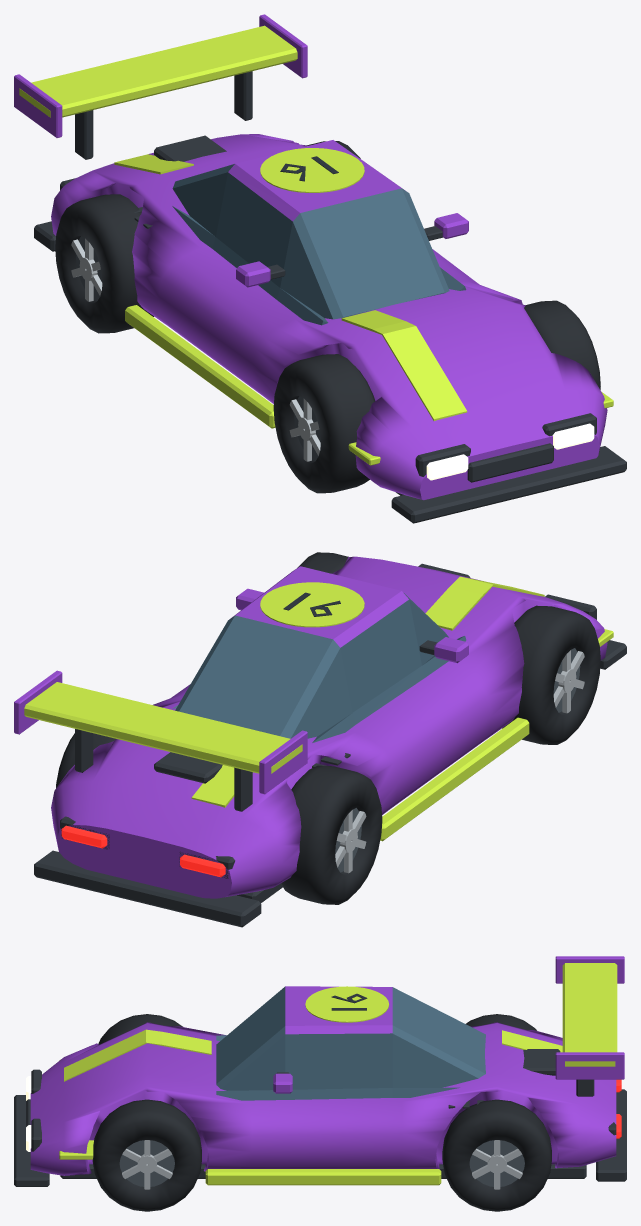
File: r2-car-gt.glb
The picture shows the model from 3 angles, top to bottom: view 1: azimuth 30°, elevation 25°; view 2: azimuth 150°, elevation 25°; view 3: azimuth 270°, elevation 25°; orthographic projection. The views are drawn at different scales.
Parts seen in each view (by area): view 1: r2-car-gt-moulded-body, r2-car-gt-greenhouse, wheel-front-left, r2-car-gt-rear-wing, wheel-rear-left, r2-car-gt-front-splitter, r2-car-gt-hood-stripe-0, r2-car-gt-side-sill--1, r2-car-gt-roof-number-roundel, wheel-front-right, r2-car-gt-front-intake, r2-car-gt-wing-endplate--1 (+9 smaller); view 2: r2-car-gt-moulded-body, r2-car-gt-greenhouse, r2-car-gt-rear-wing, wheel-rear-left, wheel-front-left, r2-car-gt-rear-diffuser, r2-car-gt-side-sill--1, r2-car-gt-roof-number-roundel, r2-car-gt-hood-stripe-0, r2-car-gt-wing-endplate--1, r2-car-gt-engine-spine, r2-car-gt-deck-stripe-0 (+8 smaller); view 3: r2-car-gt-moulded-body, r2-car-gt-greenhouse, wheel-rear-right, wheel-front-right, r2-car-gt-rear-wing, r2-car-gt-side-sill-1, r2-car-gt-roof-number-roundel, r2-car-gt-hood-stripe-0, r2-car-gt-wing-endplate-1, r2-car-gt-front-splitter, r2-car-gt-rear-diffuser, wheel-front-left (+6 smaller).
Boxes of the visible parts, bbox=[...] form: r2-car-gt-moulded-body: bbox=[51, 134, 607, 500]; r2-car-gt-greenhouse: bbox=[172, 140, 466, 325]; wheel-front-left: bbox=[273, 354, 375, 493]; r2-car-gt-rear-wing: bbox=[19, 25, 297, 117]; wheel-rear-left: bbox=[55, 194, 153, 333]; r2-car-gt-front-splitter: bbox=[391, 446, 626, 523]; r2-car-gt-hood-stripe-0: bbox=[341, 310, 467, 420]; r2-car-gt-side-sill--1: bbox=[125, 305, 275, 428]; r2-car-gt-roof-number-roundel: bbox=[260, 148, 364, 192]; wheel-front-right: bbox=[524, 300, 600, 389]; r2-car-gt-front-intake: bbox=[467, 443, 553, 482]; r2-car-gt-wing-endplate--1: bbox=[14, 74, 62, 137]; r2-car-gt-moulded-body: bbox=[51, 556, 607, 898]; r2-car-gt-greenhouse: bbox=[172, 566, 466, 742]; r2-car-gt-rear-wing: bbox=[24, 682, 302, 773]; wheel-rear-left: bbox=[281, 765, 382, 904]; wheel-front-left: bbox=[502, 605, 600, 744]; r2-car-gt-rear-diffuser: bbox=[34, 850, 261, 927]; r2-car-gt-side-sill--1: bbox=[380, 717, 529, 841]; r2-car-gt-roof-number-roundel: bbox=[260, 582, 364, 627]; r2-car-gt-hood-stripe-0: bbox=[425, 576, 544, 630]; r2-car-gt-wing-endplate--1: bbox=[259, 730, 307, 794]; r2-car-gt-engine-spine: bbox=[154, 752, 222, 783]; r2-car-gt-deck-stripe-0: bbox=[191, 765, 252, 807]; r2-car-gt-moulded-body: bbox=[30, 1022, 616, 1175]; r2-car-gt-greenhouse: bbox=[216, 986, 485, 1100]; wheel-rear-right: bbox=[442, 1099, 551, 1211]; wheel-front-right: bbox=[92, 1099, 201, 1211]; r2-car-gt-rear-wing: bbox=[562, 963, 617, 1066]; r2-car-gt-side-sill-1: bbox=[205, 1169, 441, 1185]; r2-car-gt-roof-number-roundel: bbox=[305, 986, 389, 1022]; r2-car-gt-hood-stripe-0: bbox=[64, 1029, 211, 1081]; r2-car-gt-wing-endplate-1: bbox=[555, 1052, 624, 1079]; r2-car-gt-front-splitter: bbox=[14, 1095, 49, 1186]; r2-car-gt-rear-diffuser: bbox=[596, 1089, 626, 1181]; wheel-front-left: bbox=[98, 1014, 182, 1044].
Bounding box in the file's own units: 1.04 × 0.7415 × 2.58.
